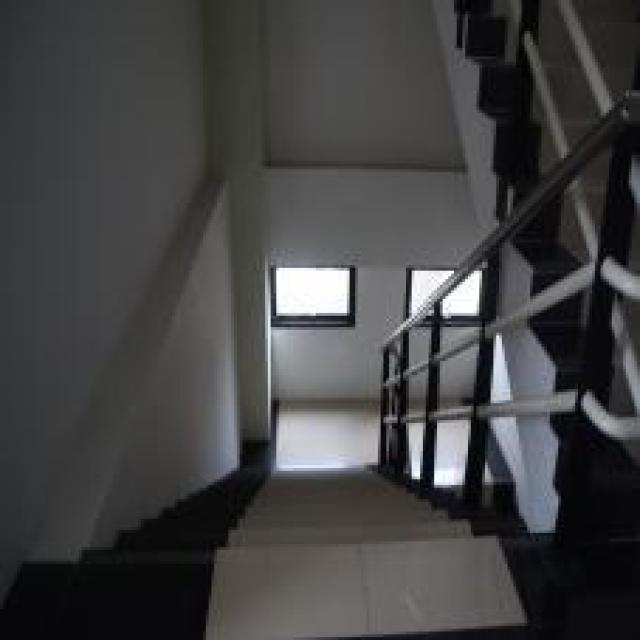downstair: (215, 483, 441, 621)
